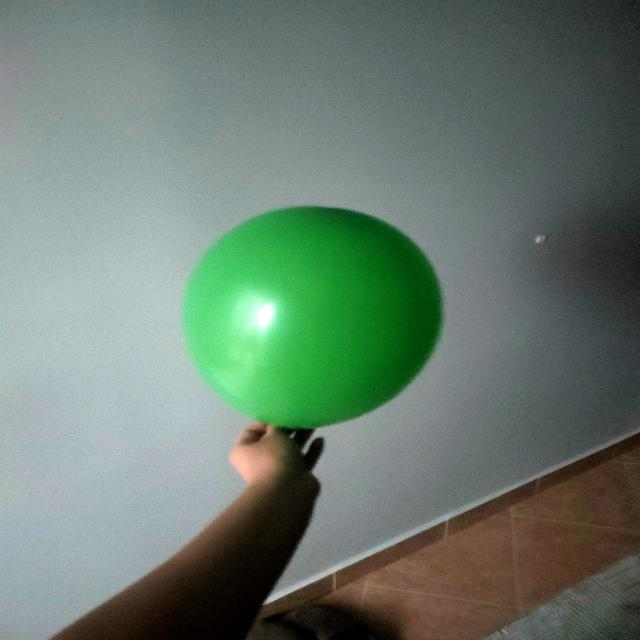green: (184, 207, 442, 432)
